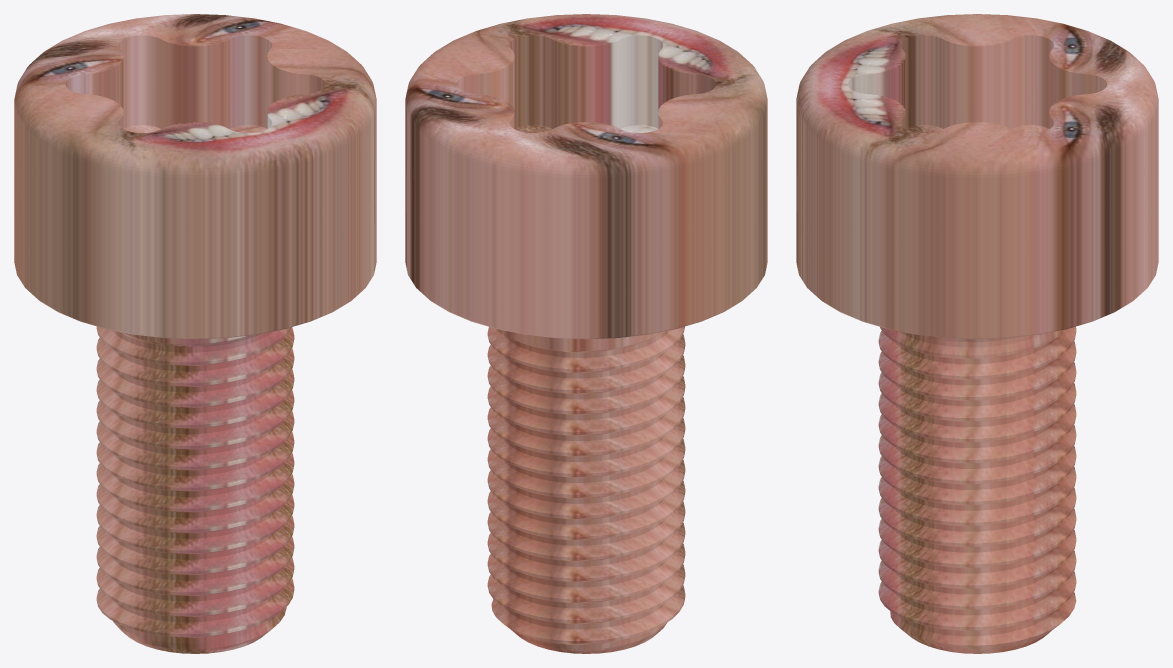
File: kroeger-cap-torx-bolt.glb
The picture shows the model from 3 angles, left to right: view 1: azimuth 30°, elevation 25°; view 2: azimuth 150°, elevation 25°; view 3: azimuth 270°, elevation 25°; orthographic projection.
Parts seen in each view (by area): view 1: Bolt.015; view 2: Bolt.015; view 3: Bolt.015.
Boxes of the visible parts, left/top/right/bottom form: Bolt.015: left=14, top=14, right=376, bottom=653; Bolt.015: left=405, top=14, right=767, bottom=653; Bolt.015: left=796, top=14, right=1158, bottom=653.
Bounding box in the file's own units: 0.011 × 0.018 × 0.011.
1 material, 1 textured.
